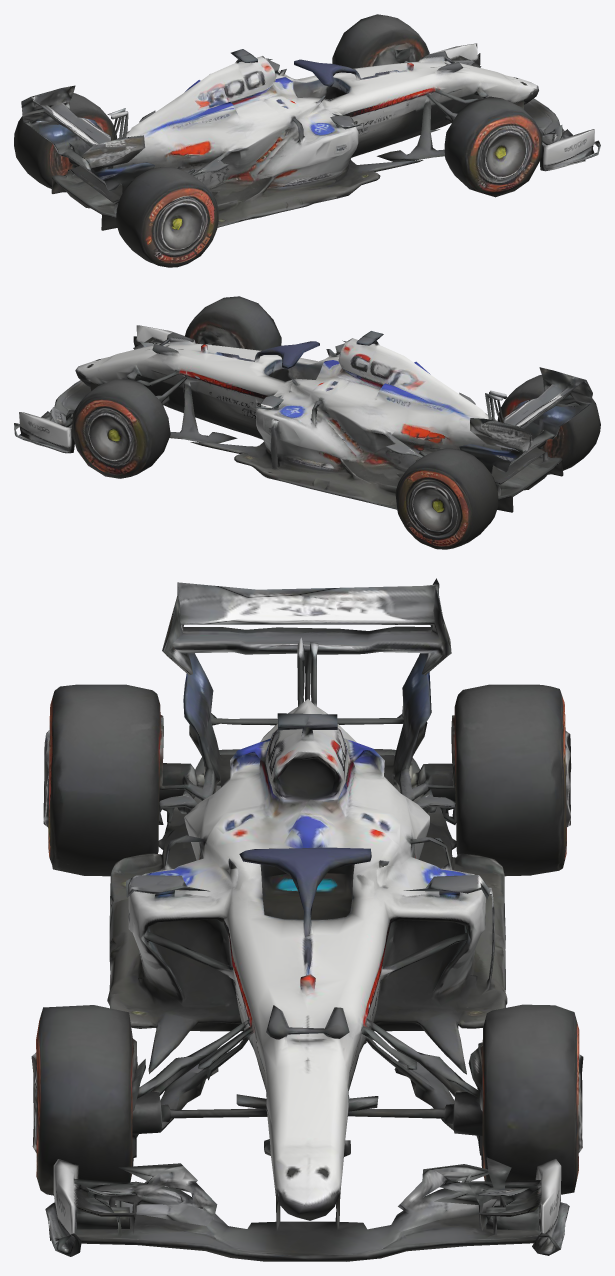
File: photoreal-formula-one-car-6457939f.glb
The picture shows the model from 3 angles, top to bottom: view 1: azimuth 30°, elevation 25°; view 2: azimuth 150°, elevation 25°; view 3: azimuth 270°, elevation 25°; orthographic projection. The views are drawn at different scales.
Parts seen in each view (by area): view 1: tripo_node_dbd0df44-2fc4-4db2-9017-c1cc6e95fb41; view 2: tripo_node_dbd0df44-2fc4-4db2-9017-c1cc6e95fb41; view 3: tripo_node_dbd0df44-2fc4-4db2-9017-c1cc6e95fb41.
Boxes of the visible parts, left/top/right/bottom form: tripo_node_dbd0df44-2fc4-4db2-9017-c1cc6e95fb41: left=14, top=14, right=600, bottom=267; tripo_node_dbd0df44-2fc4-4db2-9017-c1cc6e95fb41: left=14, top=296, right=600, bottom=549; tripo_node_dbd0df44-2fc4-4db2-9017-c1cc6e95fb41: left=31, top=578, right=583, bottom=1261.
Size of the model in its own units: 0.9996 by 0.2737 by 0.4848.
Materials: 1 (1 with a texture image).
